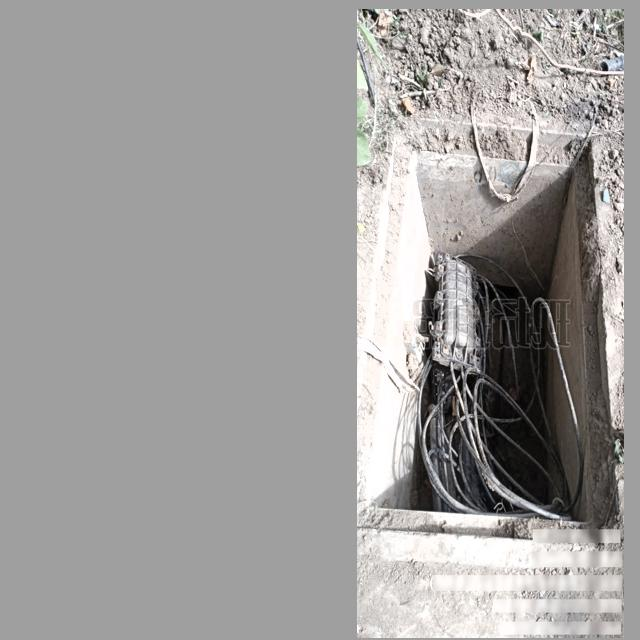lose: (358, 132, 617, 539)
